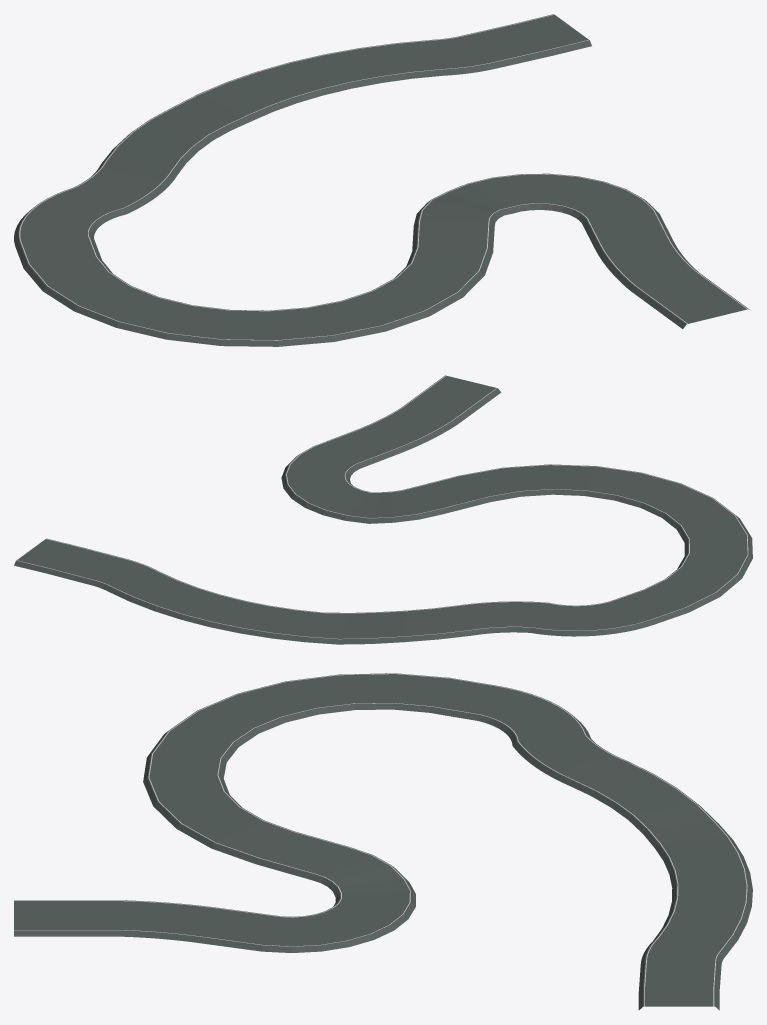
Rendered from Curve_90_vawy.fbx.
3 views of the same model, one above another, from view 1: azimuth 30°, elevation 25°; view 2: azimuth 150°, elevation 25°; view 3: azimuth 270°, elevation 25° (orthographic). The views are drawn at different scales.
Visible parts, largest first — view 1: Plane; view 2: Plane; view 3: Plane.
Boxes of the visible parts, x1,y1,x2,y2 form: Plane: (14,14,749,346); Plane: (14,375,752,644); Plane: (14,673,752,1010).
Size of the model in its own units: 172 by 3 by 164.
